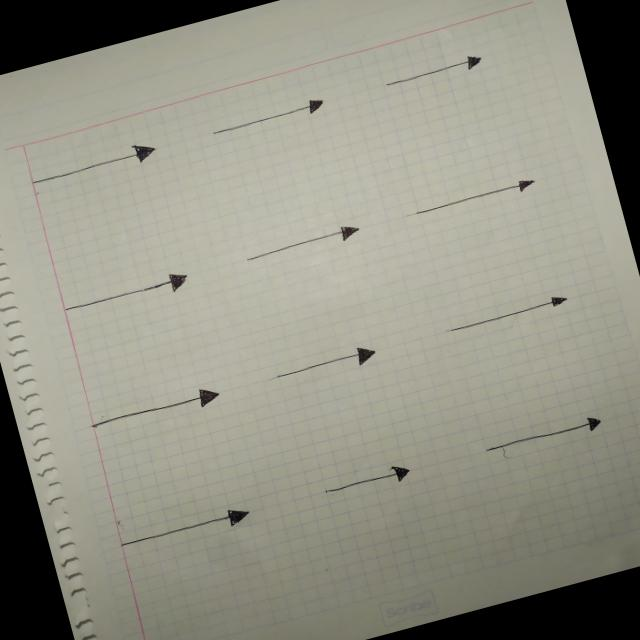arrow_line_up: (441, 150, 494, 237), (119, 382, 173, 466), (509, 403, 566, 482), (347, 448, 398, 536), (310, 326, 362, 406), (252, 75, 300, 157), (147, 510, 196, 590), (483, 286, 530, 368), (422, 32, 464, 111), (92, 253, 138, 325), (276, 203, 320, 273), (66, 126, 106, 200)
